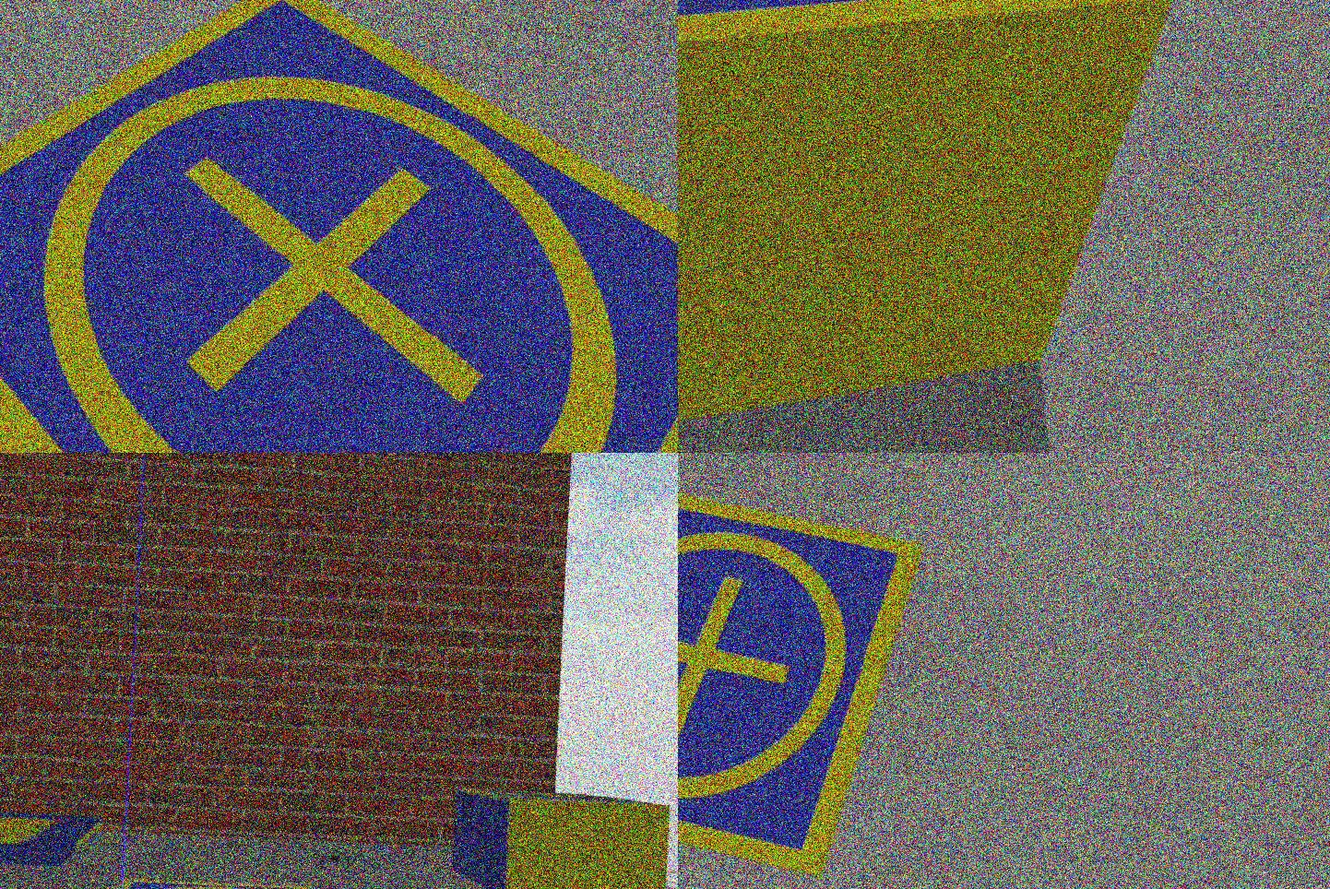large_base: (1, 793, 109, 872)
small_base: (1, 1, 678, 454), (678, 468, 932, 886)
